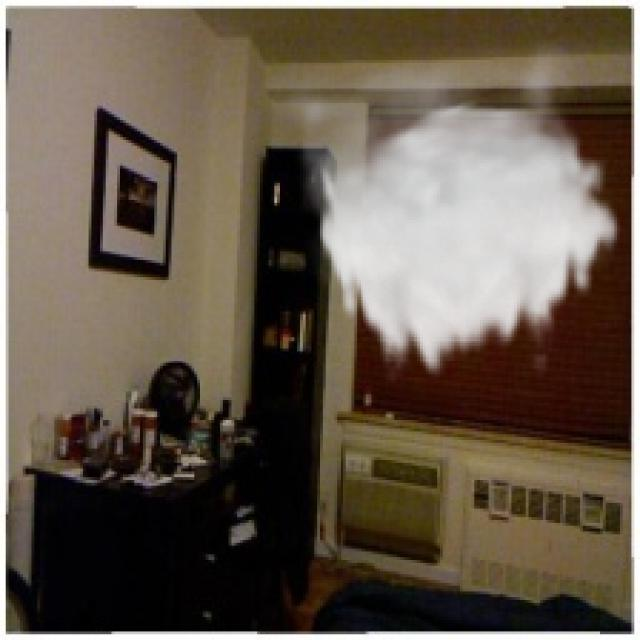smoke: (251, 34, 623, 383)
